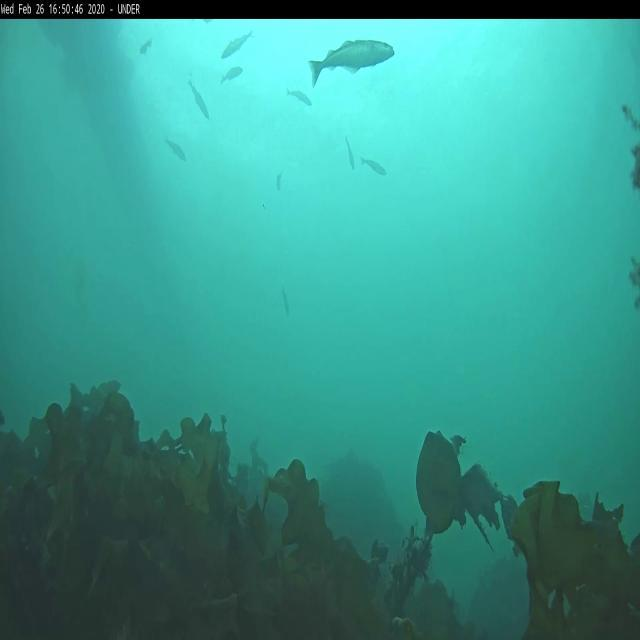fish: (309, 36, 394, 84), (221, 30, 254, 60), (189, 78, 209, 126), (285, 86, 314, 115), (163, 132, 187, 165), (358, 155, 387, 176), (278, 282, 290, 322), (220, 69, 242, 86), (344, 136, 354, 172), (136, 38, 154, 55), (276, 171, 284, 192)
